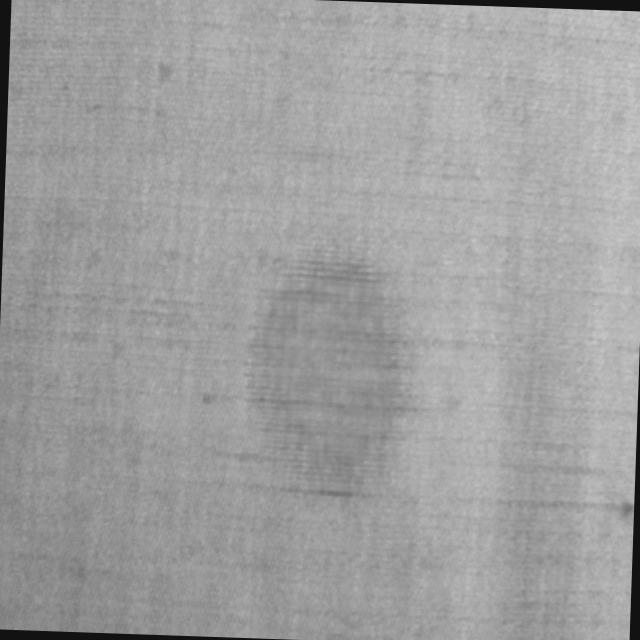oil spot: (239, 240, 411, 512)
